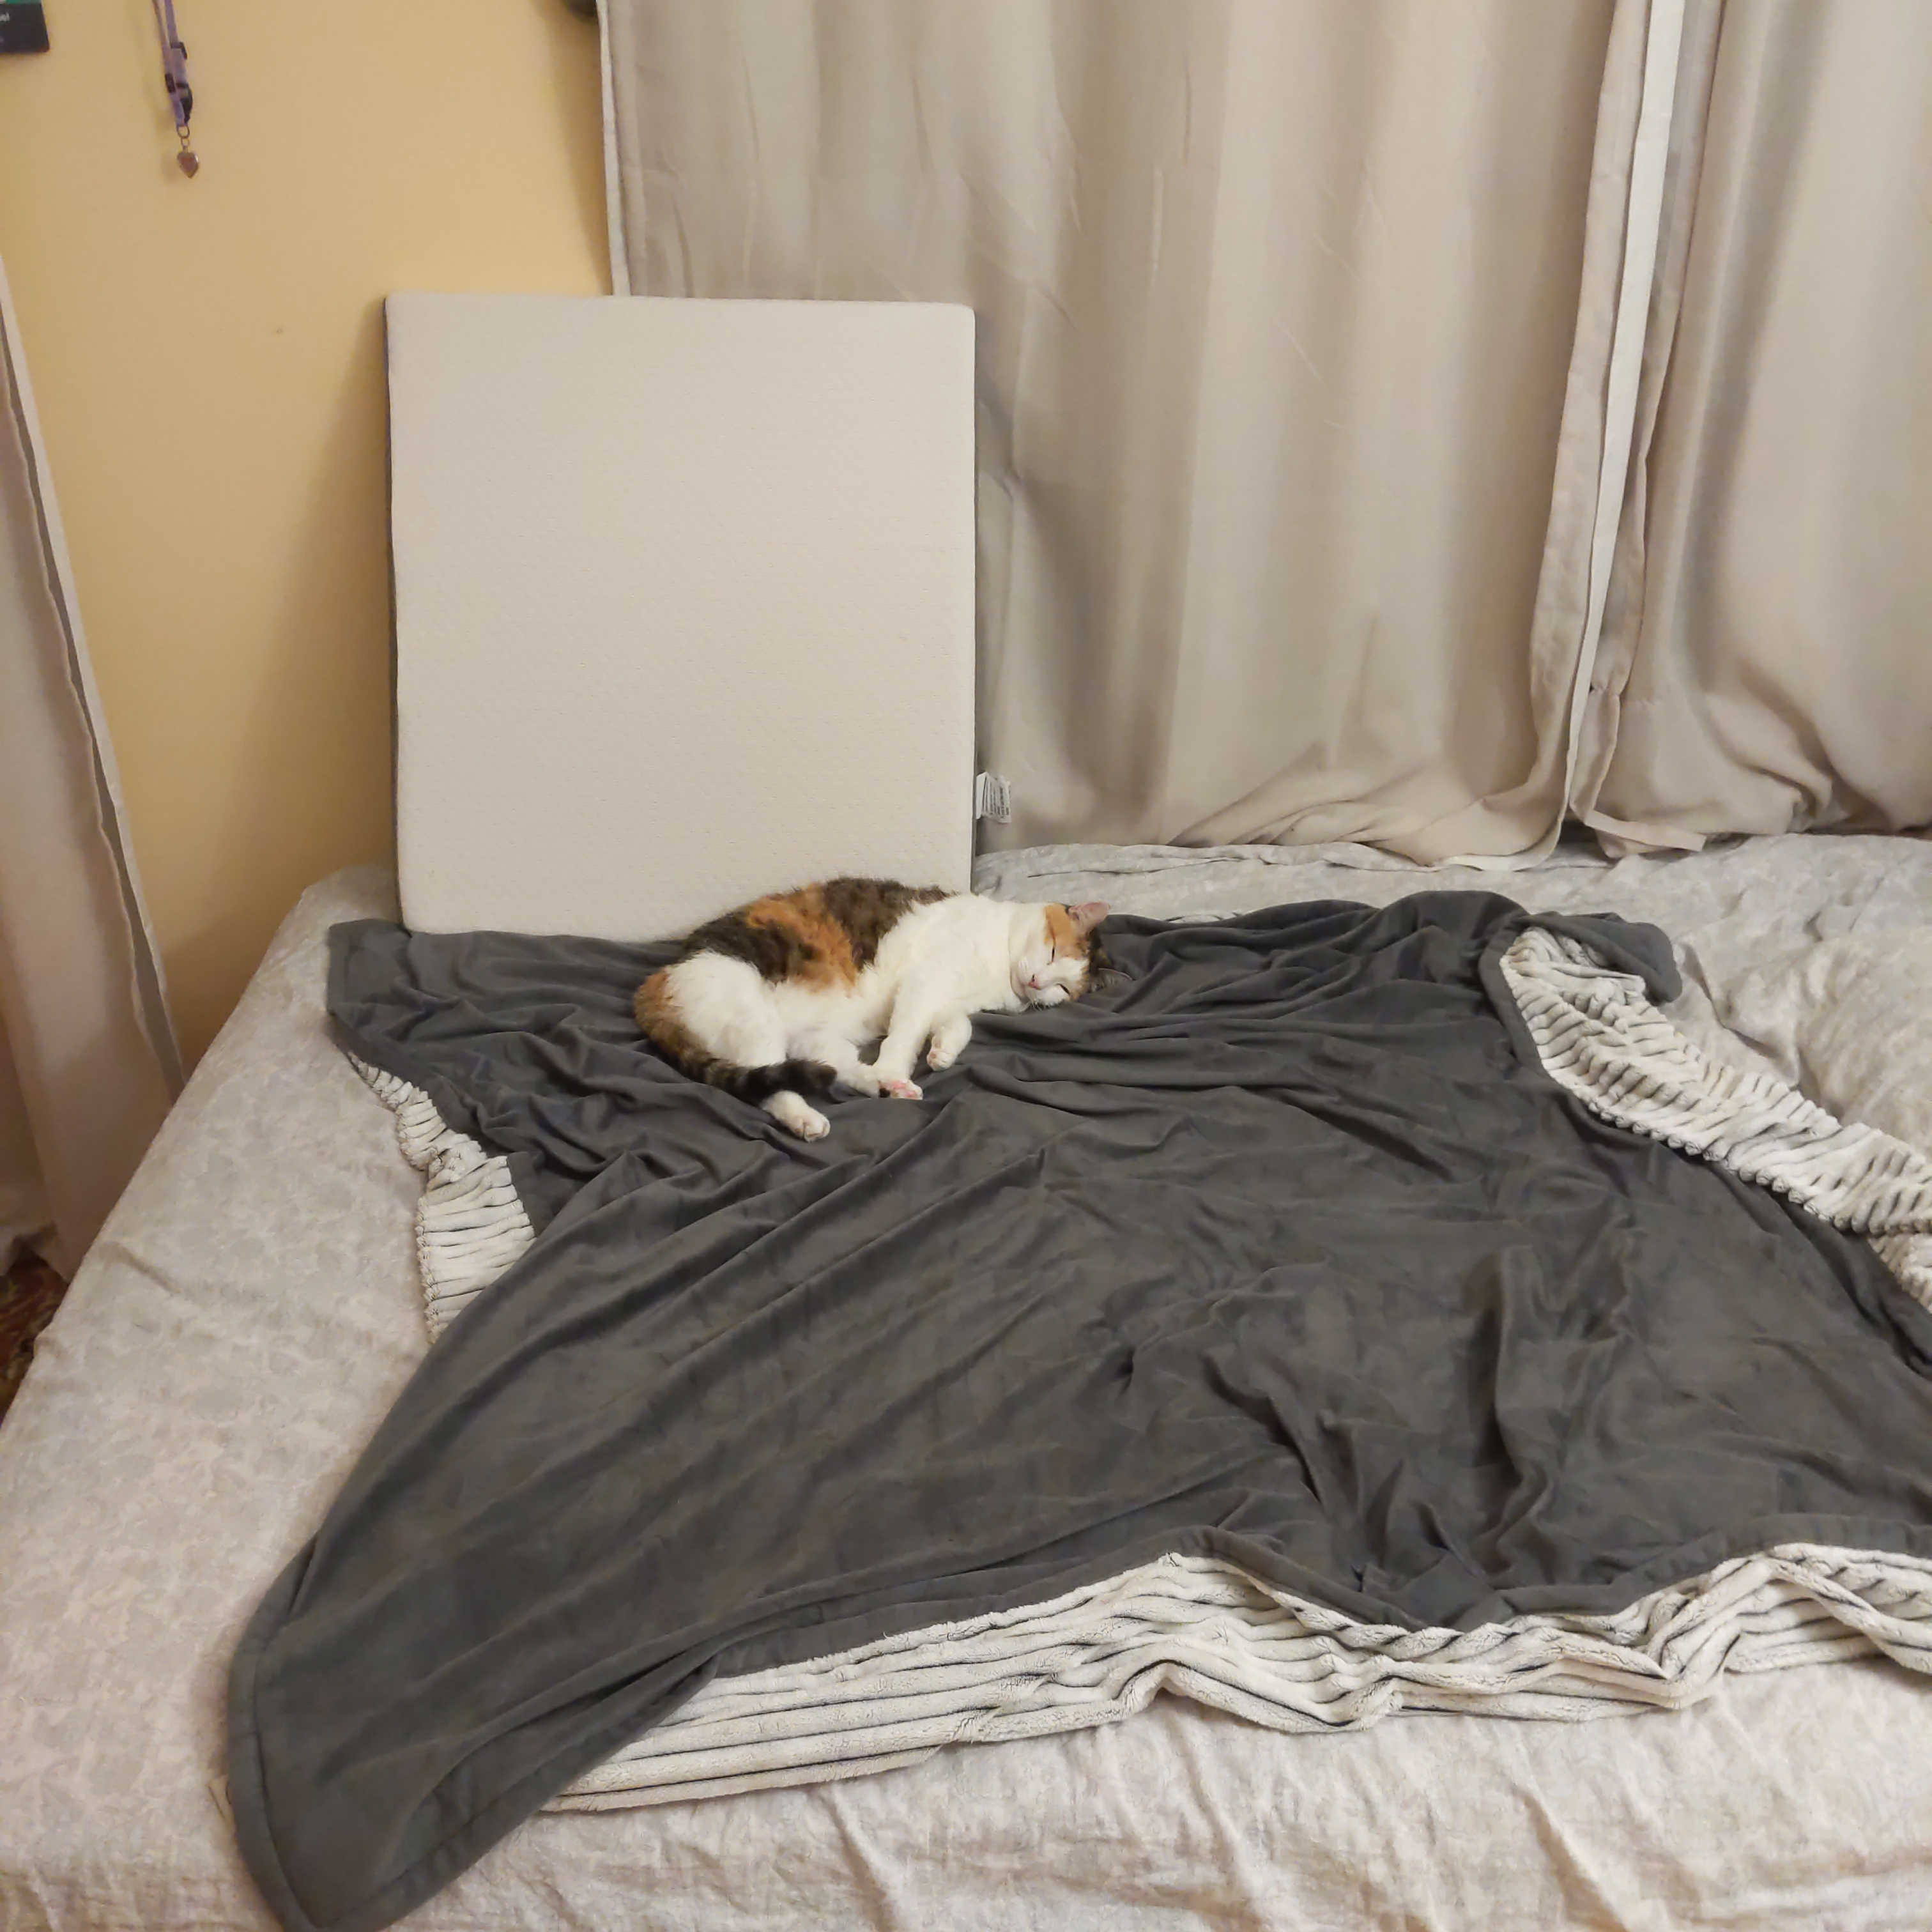Calico: (630, 879, 1136, 1139)
